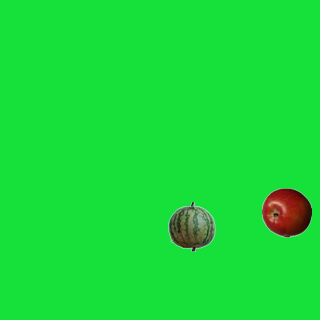Apple Braeburn: (261, 187, 311, 237)
Watermelon: (166, 201, 216, 251)
